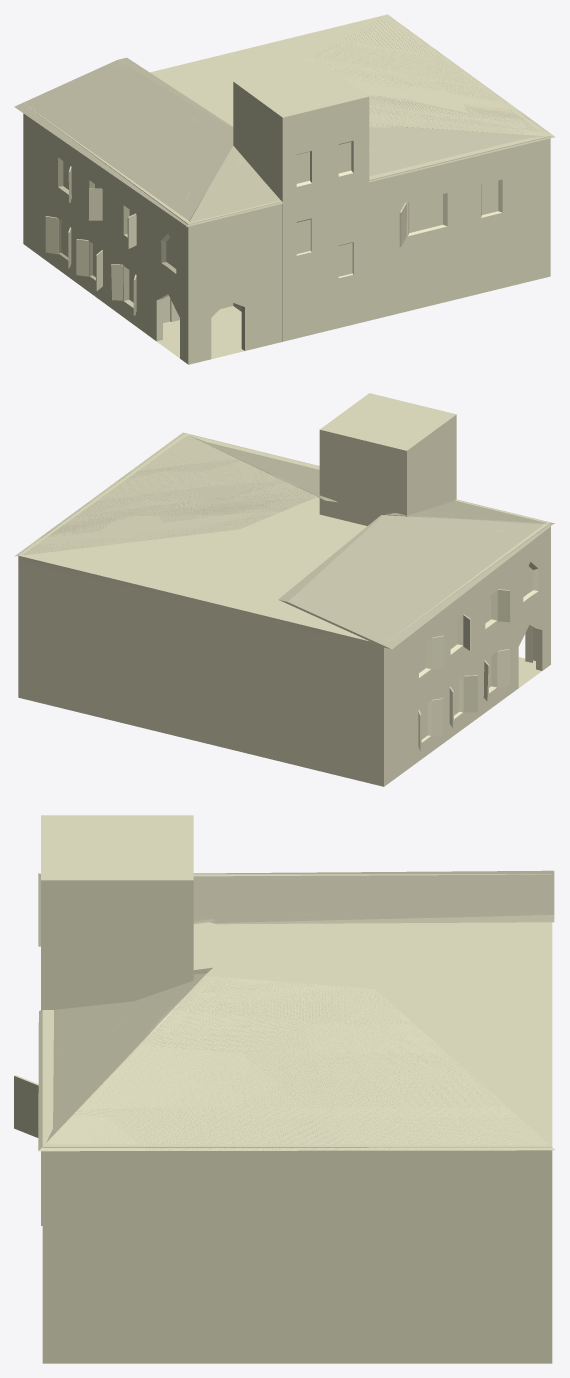
The model's file is HouseBackground.fbx.
3 views of the same model, one above another, from view 1: azimuth 30°, elevation 25°; view 2: azimuth 150°, elevation 25°; view 3: azimuth 270°, elevation 25° (orthographic). The views are drawn at different scales.
Visible parts, largest first — view 1: Cube.001; view 2: Cube.001; view 3: Cube.001.
Part boxes in pixels (bbox=[...]): Cube.001: bbox=[14, 14, 554, 364]; Cube.001: bbox=[14, 393, 554, 786]; Cube.001: bbox=[14, 815, 555, 1363].
Bounding box in the file's own units: 46373 × 26461 × 37487.
